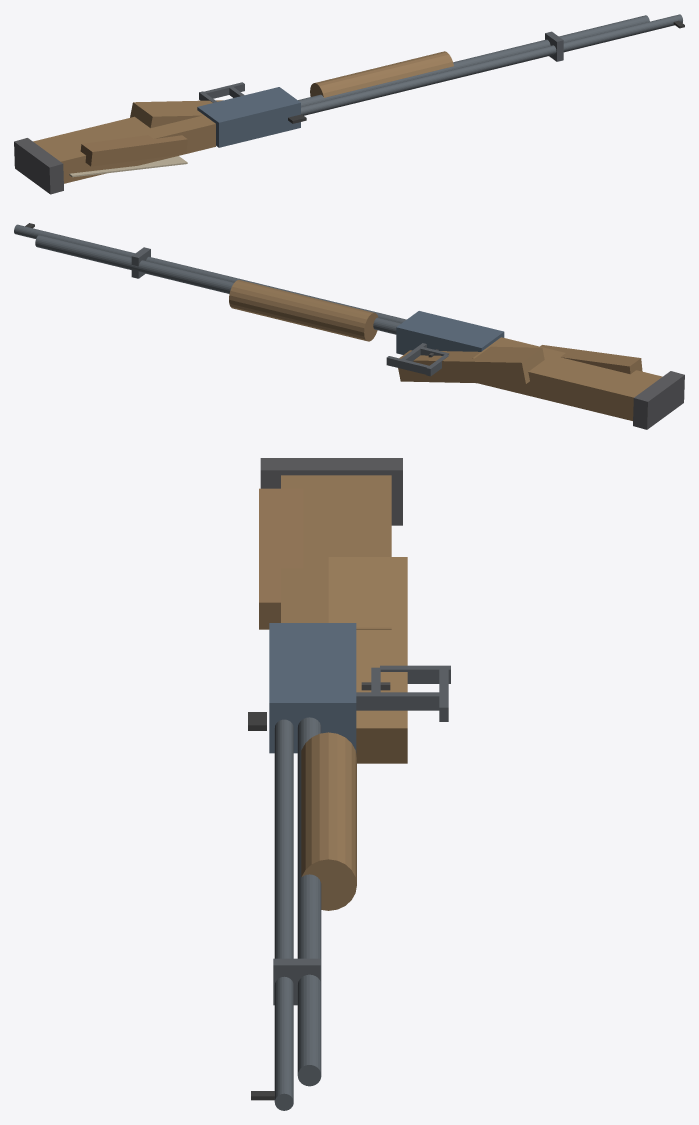
File: rail_rider_rifle_placeholder.glb
The picture shows the model from 3 angles, top to bottom: view 1: azimuth 30°, elevation 25°; view 2: azimuth 150°, elevation 25°; view 3: azimuth 270°, elevation 25°; orthographic projection. The views are drawn at different scales.
Visible parts, largest first — view 1: stock_body, receiver, barrel, forearm, stock_comb, mag_tube, buttplate, stock_wrist, brand_plate, lever, barrel_band; view 2: stock_body, forearm, stock_wrist, receiver, mag_tube, buttplate, barrel, stock_comb, lever, barrel_band; view 3: stock_wrist, stock_body, receiver, forearm, barrel, mag_tube, stock_comb, buttplate, lever, barrel_band.
Part boxes in pixels (box(x1,y1,x2,y2)): stock_body: box(33, 103, 215, 183); receiver: box(197, 87, 300, 147); barrel: box(301, 14, 682, 115); forearm: box(310, 51, 453, 97); stock_comb: box(80, 135, 187, 166); mag_tube: box(298, 15, 649, 106); buttplate: box(14, 138, 63, 194); stock_wrist: box(130, 100, 222, 128); brand_plate: box(69, 156, 187, 177); lever: box(199, 82, 244, 102); barrel_band: box(545, 31, 563, 61); stock_body: box(472, 337, 662, 420); forearm: box(229, 280, 378, 341); stock_wrist: box(398, 346, 544, 384); receiver: box(396, 311, 504, 354); mag_tube: box(35, 235, 401, 334); buttplate: box(633, 371, 684, 429); barrel: box(14, 224, 406, 323); stock_comb: box(540, 345, 642, 374); lever: box(386, 343, 449, 376); barrel_band: box(131, 247, 150, 278); stock_wrist: box(328, 557, 407, 763); stock_body: box(281, 475, 391, 629); receiver: box(269, 623, 356, 753); forearm: box(301, 732, 356, 910); barrel: box(274, 719, 293, 1110); mag_tube: box(297, 717, 321, 1086); stock_comb: box(259, 488, 303, 629); buttplate: box(260, 458, 402, 525); lever: box(356, 665, 450, 721); barrel_band: box(273, 958, 320, 1005).
Bounding box in the file's own units: 0.9307 × 0.0648 × 0.1285.
